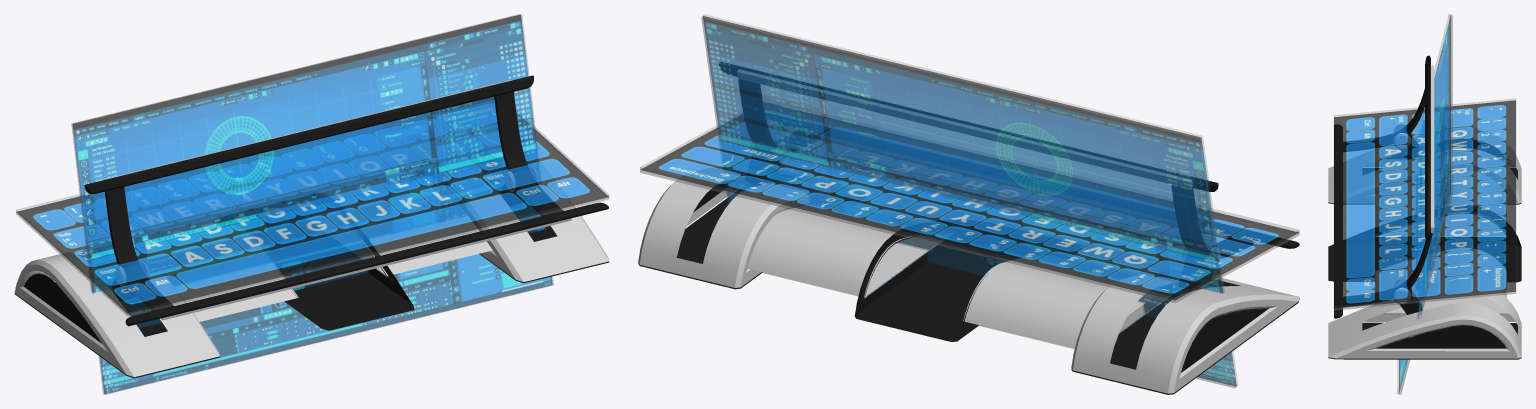
Rendered from comp.glb.
3 renders of one model, left to right at view 1: azimuth 30°, elevation 25°; view 2: azimuth 150°, elevation 25°; view 3: azimuth 270°, elevation 25°, orthographic. The views are drawn at different scales.
Visible parts, largest first — view 1: Plane.001, Plane.002, Circle; view 2: Plane.001, Circle, Plane.002; view 3: Circle, Plane.002, Plane.001.
Boxes of the visible parts, x1,y1,x2,y2 form: Plane.001: (71,14,553,394); Plane.002: (16,97,608,316); Circle: (14,75,609,378); Plane.001: (701,14,1237,387); Circle: (638,61,1299,394); Plane.002: (640,102,1299,302); Circle: (1328,55,1521,359); Plane.002: (1334,98,1515,310); Plane.001: (1397,14,1452,394).
Bounding box in the file's own units: 162169 × 79954 × 69075.
4 materials, 1 textured.
